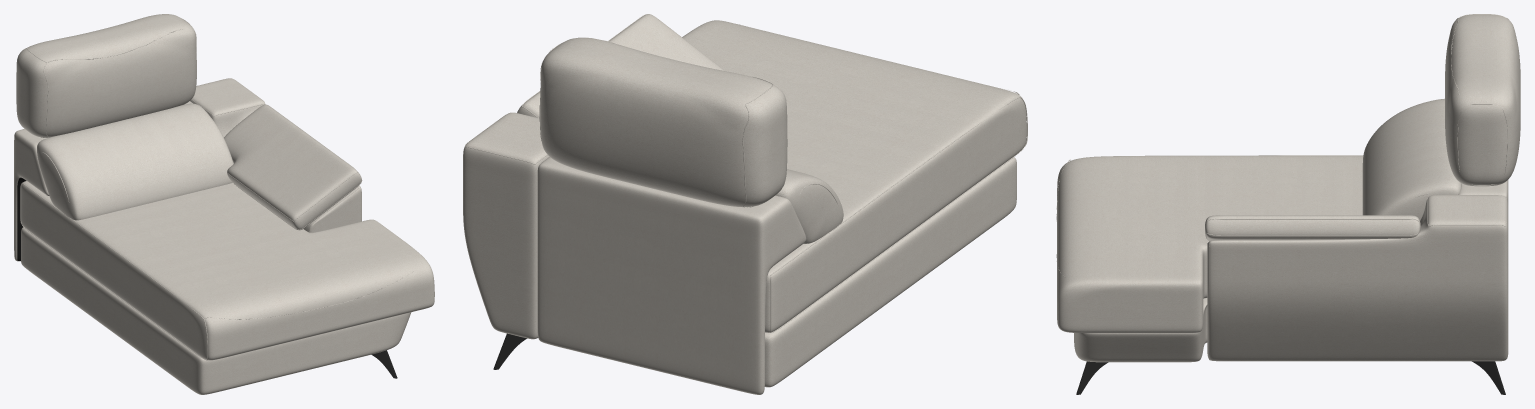
File: chaise.glb
3 views of the same model, side by side, from view 1: azimuth 30°, elevation 25°; view 2: azimuth 150°, elevation 25°; view 3: azimuth 270°, elevation 25° (orthographic). The views are drawn at different scales.
Parts seen in each view (by area): view 1: object 15, Cabeça, object 21, object 20, object 11, object 8, Costa, D=~ 0,00 m; view 2: Costa, object 15, Cabeça, object 8, object 20, object 11, object 21, D=~ 0,00 m; view 3: object 8, object 15, Cabeça, object 21, object 11, object 20, Costa, D=~ 0,00 m, object 7.
Part boxes in pixels (x1,y1,x2,y2): object 15: (21,181,434,360); Cabeça: (16,14,196,137); object 21: (37,103,233,220); object 20: (21,227,411,394); object 11: (224,104,361,230); object 8: (190,78,361,232); Costa: (14,101,192,261); D=~ 0,00 m: (20,182,207,360); Costa: (537,157,806,394); object 15: (682,20,1026,332); Cabeça: (540,37,787,207); object 8: (463,112,549,339); object 20: (764,157,1016,387); object 11: (517,14,724,118); object 21: (775,169,843,243); D=~ 0,00 m: (770,97,1027,332); object 8: (1207,195,1508,361); object 15: (1057,155,1363,332); Cabeça: (1445,14,1520,186); object 21: (1362,98,1461,220); object 11: (1205,215,1420,240); object 20: (1074,298,1207,362); Costa: (1458,180,1508,204); D=~ 0,00 m: (1206,218,1419,221); object 7: (1472,361,1505,394).
Size of the model in its own units: 1.03 by 1.04 by 1.57.
Materials: 4 (1 with a texture image).
